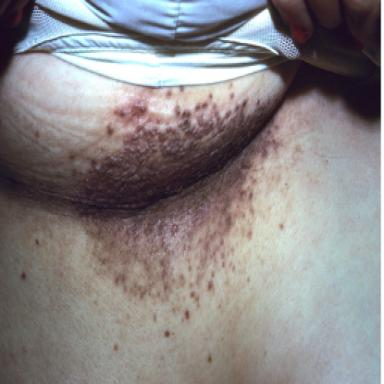Darier_s-Disease: (64, 85, 288, 321)
